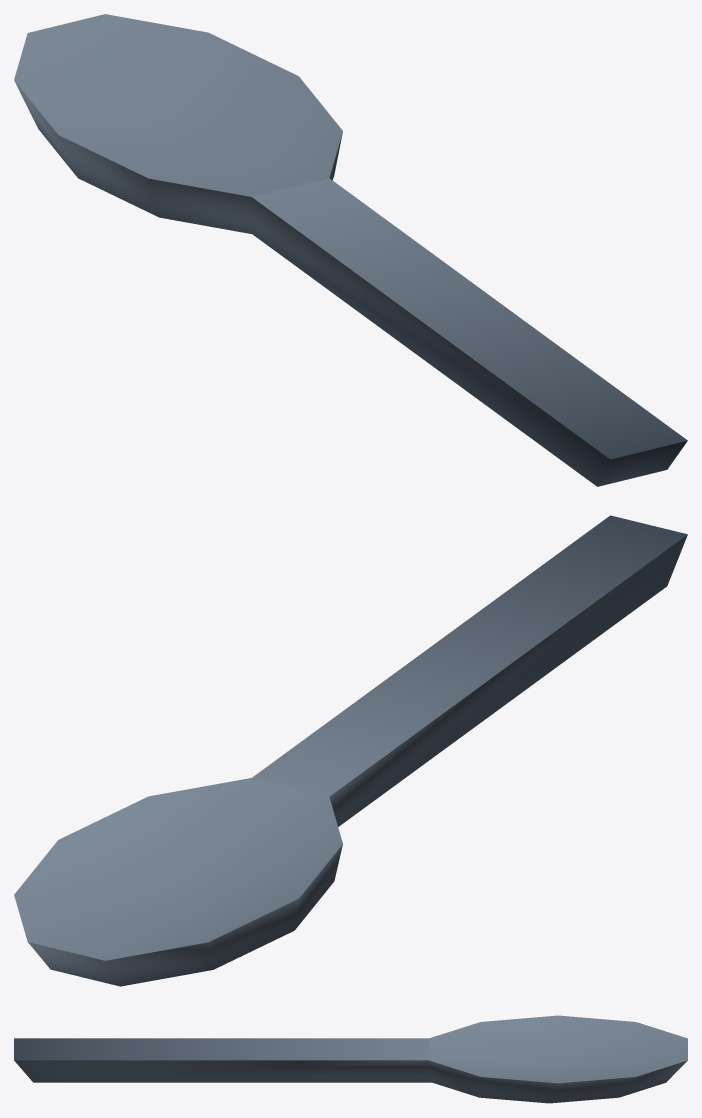
File: H&J_Tenedor.fbx
3 views of the same model, one above another, from view 1: azimuth 30°, elevation 25°; view 2: azimuth 150°, elevation 25°; view 3: azimuth 270°, elevation 25° (orthographic). The views are drawn at different scales.
Parts seen in each view (by area): view 1: LAGS_Tenedor; view 2: LAGS_Tenedor; view 3: LAGS_Tenedor.
Boxes of the visible parts, <box> form: LAGS_Tenedor: <box>14,14,687,486</box>; LAGS_Tenedor: <box>14,515,687,986</box>; LAGS_Tenedor: <box>14,1015,687,1103</box>.
Bounding box in the file's own units: 6.2 × 1 × 26.
